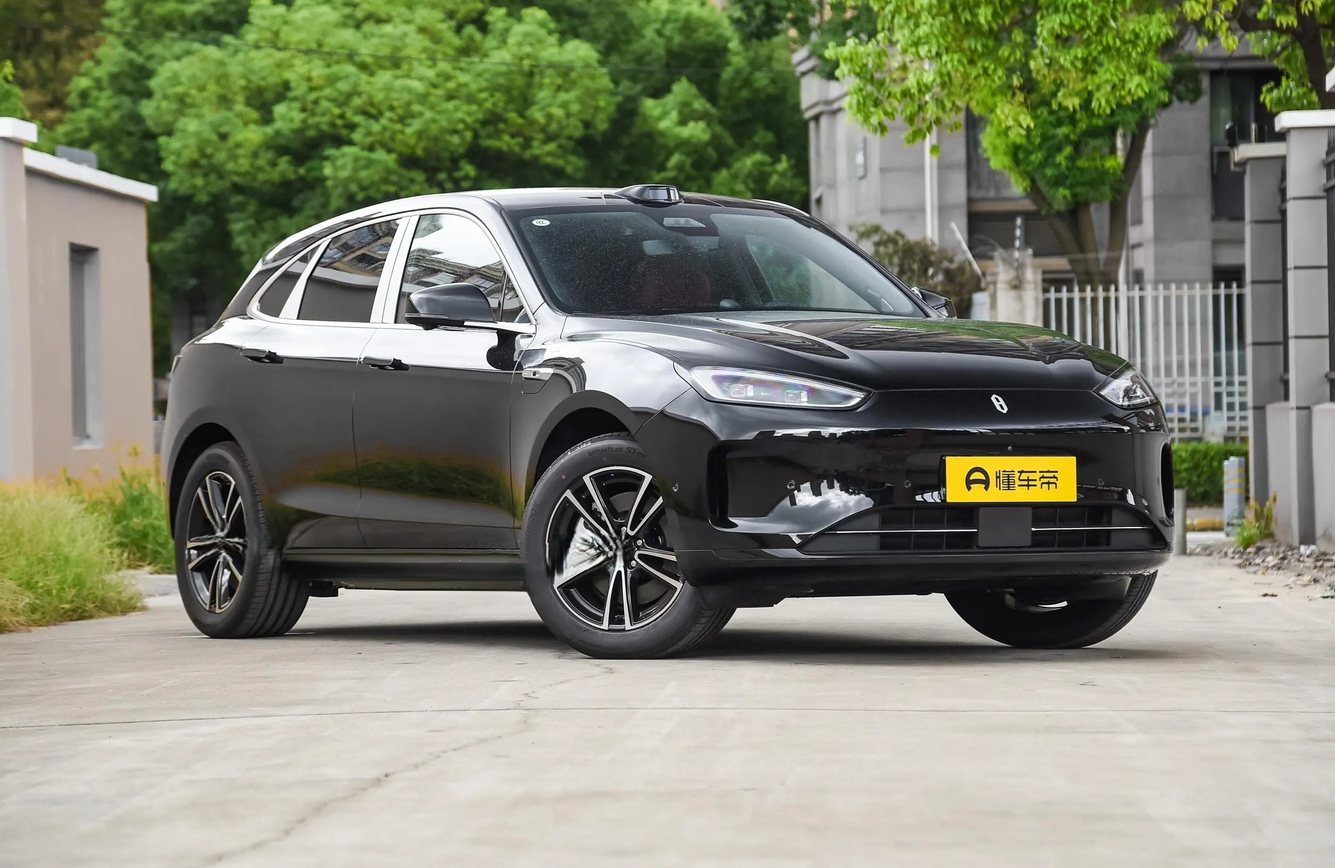AITO: (991, 395, 1008, 413)
